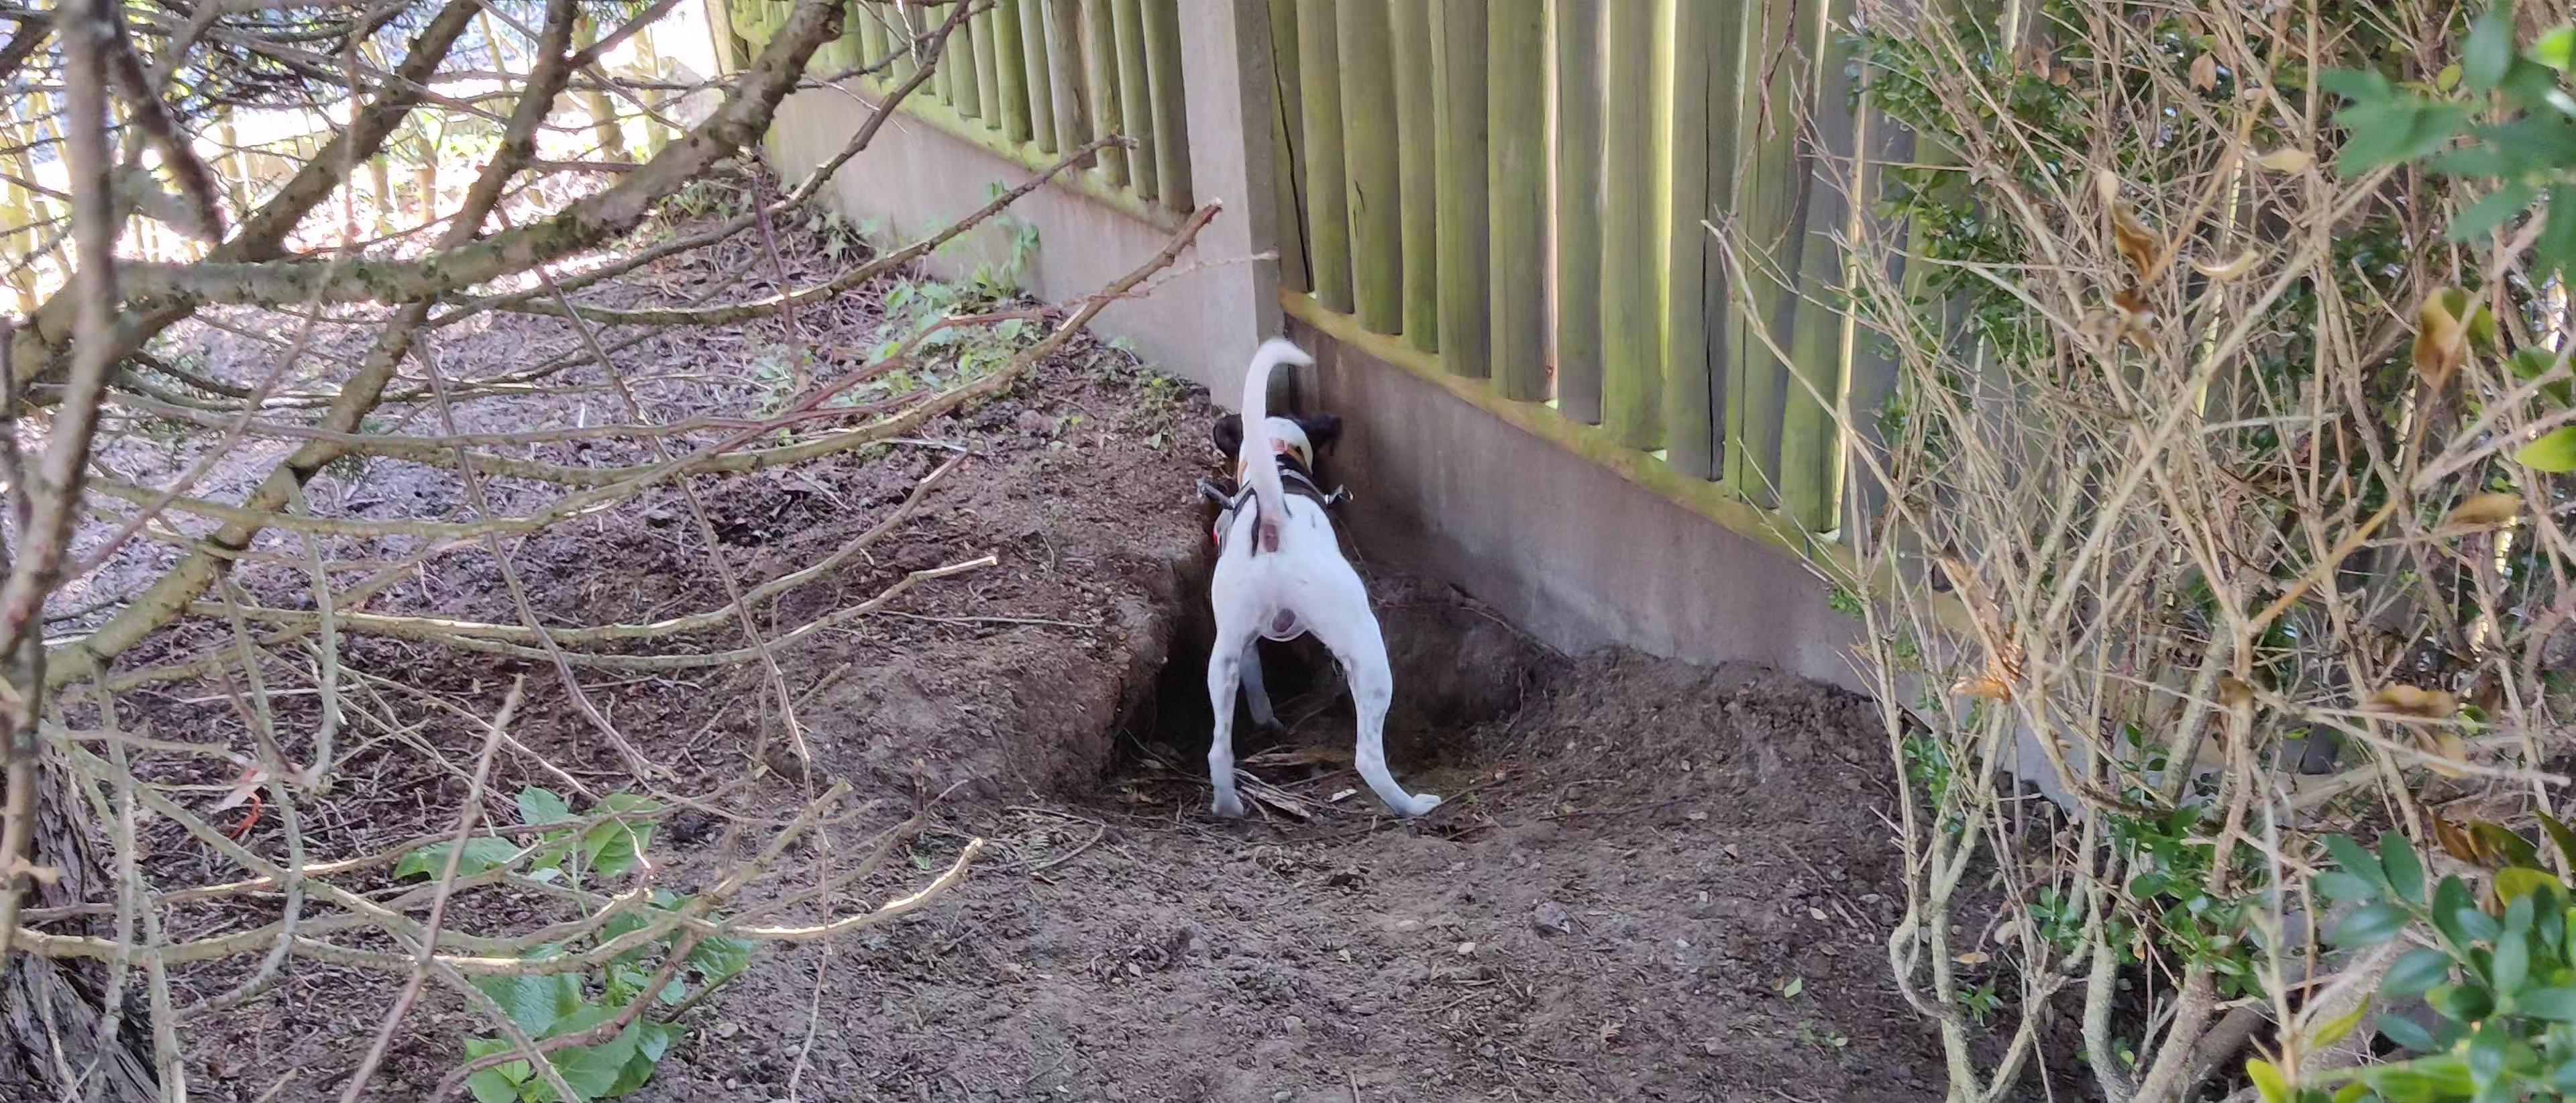Dog: (1163, 321, 1479, 842)
